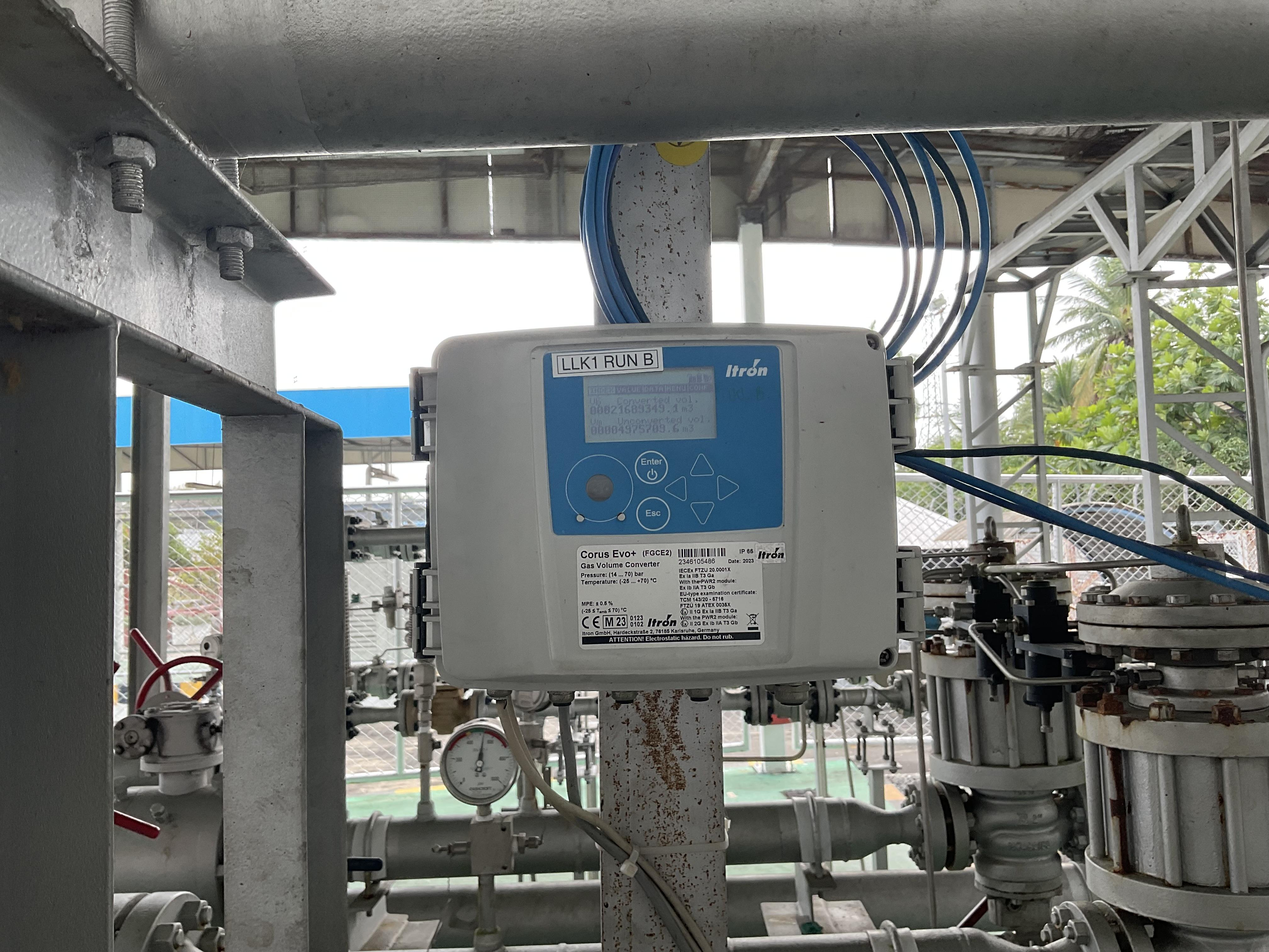digital_screen: (584, 366, 717, 442)
